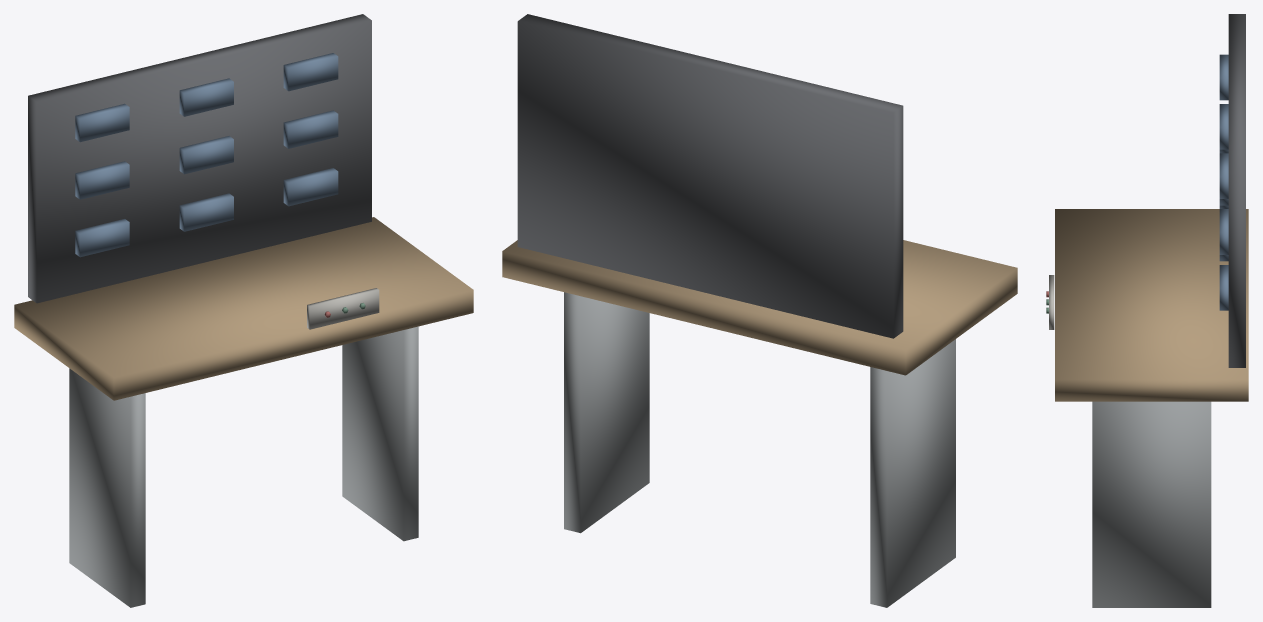
Rendered from electronics_repair_bench__compact.glb.
The picture shows the model from 3 angles, left to right: view 1: azimuth 30°, elevation 25°; view 2: azimuth 150°, elevation 25°; view 3: azimuth 270°, elevation 25°; orthographic projection. The views are drawn at different scales.
Visible parts, largest first — view 1: world; view 2: world; view 3: world.
Part boxes in pixels (x1,y1,x2,y2): world: [14, 14, 473, 607]; world: [502, 14, 1017, 607]; world: [1046, 14, 1248, 607].
Size of the model in its own units: 1.22 by 1.49 by 0.6115.
